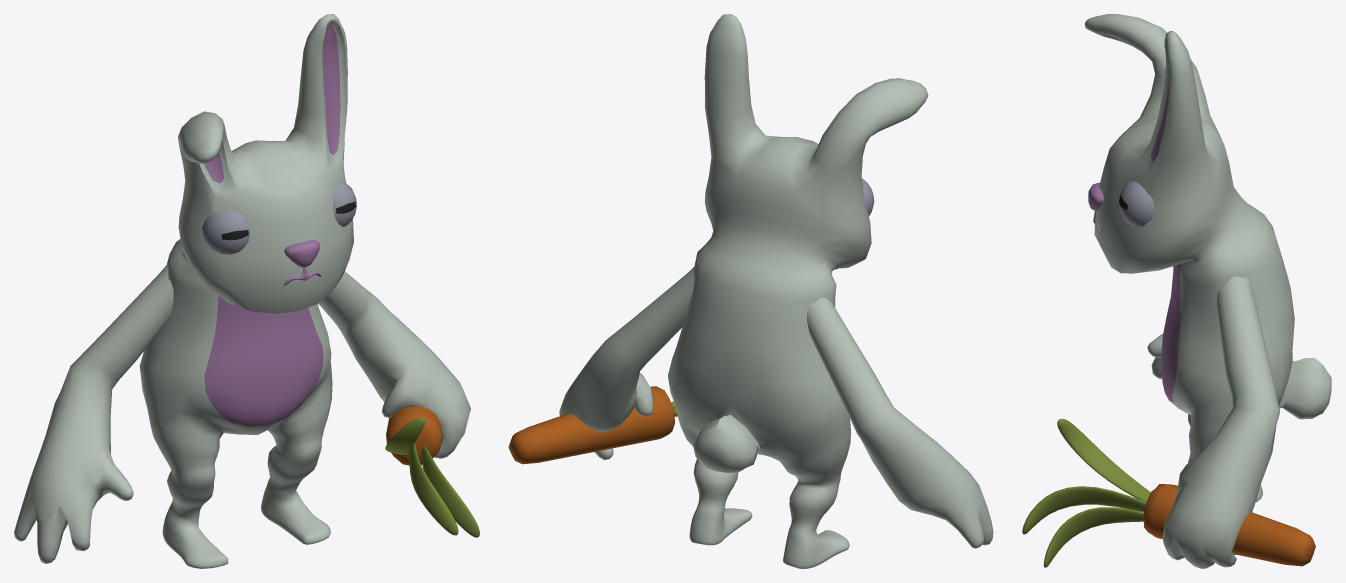
Rendered from Bunny.obj.
3 views of the same model, side by side, from view 1: azimuth 30°, elevation 25°; view 2: azimuth 150°, elevation 25°; view 3: azimuth 270°, elevation 25° (orthographic). The views are drawn at different scales.
Visible parts, largest first — view 1: Bunny_Cube.074, Carrot_Cube.077; view 2: Bunny_Cube.074, Carrot_Cube.077; view 3: Bunny_Cube.074, Carrot_Cube.077.
Part boxes in pixels (x1=…): Bunny_Cube.074: x1=14, y1=14, x2=470, y2=568; Carrot_Cube.077: x1=385, y1=406, x2=479, y2=537; Bunny_Cube.074: x1=559, y1=14, x2=993, y2=568; Carrot_Cube.077: x1=508, y1=386, x2=677, y2=464; Bunny_Cube.074: x1=1085, y1=14, x2=1331, y2=568; Carrot_Cube.077: x1=1022, y1=418, x2=1315, y2=567.
Bounding box in the file's own units: 3.1 × 3.41 × 1.83.
